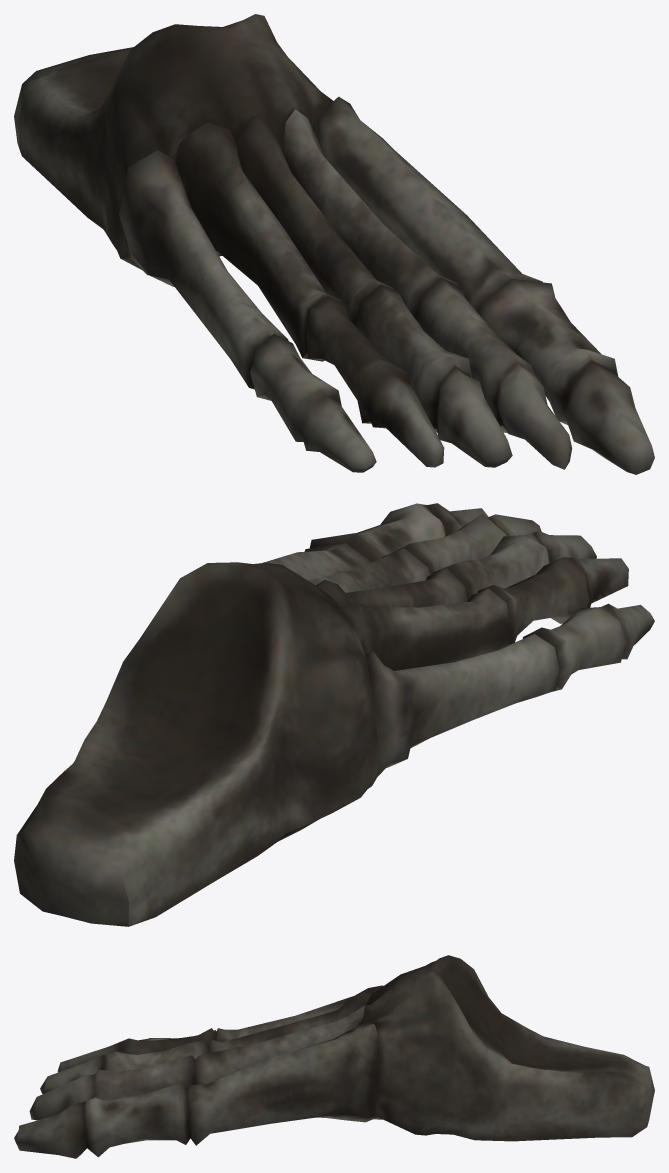
Rendered from right_foot.obj.
The picture shows the model from 3 angles, top to bottom: view 1: azimuth 30°, elevation 25°; view 2: azimuth 150°, elevation 25°; view 3: azimuth 270°, elevation 25°; orthographic projection. The views are drawn at different scales.
Parts seen in each view (by area): view 1: fet_2_dr_Material; view 2: fet_2_dr_Material; view 3: fet_2_dr_Material.
Part boxes in pixels (x1=…): fet_2_dr_Material: x1=14, y1=14, x2=654, y2=474; fet_2_dr_Material: x1=14, y1=503, x2=654, y2=926; fet_2_dr_Material: x1=14, y1=955, x2=654, y2=1158.
Bounding box in the file's own units: 0.0556 × 0.045 × 0.1642.
